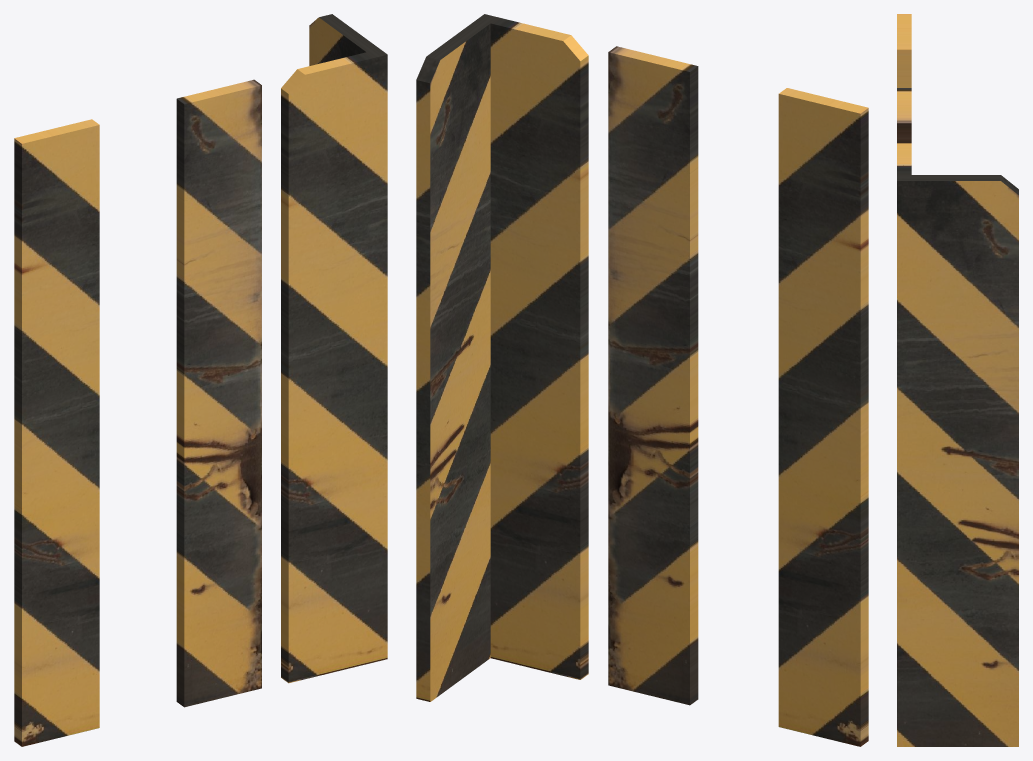
The picture shows the model from 3 angles, left to right: view 1: azimuth 30°, elevation 25°; view 2: azimuth 150°, elevation 25°; view 3: azimuth 270°, elevation 25°; orthographic projection. The views are drawn at different scales.
Parts seen in each view (by area): view 1: group_1, group_2, group_0; view 2: group_1, group_2, group_0; view 3: group_1, group_2, group_0.
Part boxes in pixels (left/top/right/bottom): group_1: left=281, top=14, right=387, bottom=683; group_2: left=14, top=119, right=99, bottom=746; group_0: left=176, top=79, right=261, bottom=707; group_1: left=416, top=14, right=588, bottom=701; group_2: left=778, top=88, right=868, bottom=746; group_0: left=608, top=46, right=698, bottom=705; group_1: left=897, top=143, right=1018, bottom=746; group_2: left=897, top=14, right=911, bottom=87; group_0: left=897, top=88, right=911, bottom=143.
Size of the model in its own units: 24.44 by 7.52 by 38.59.
Materials: 1 (1 with a texture image).
